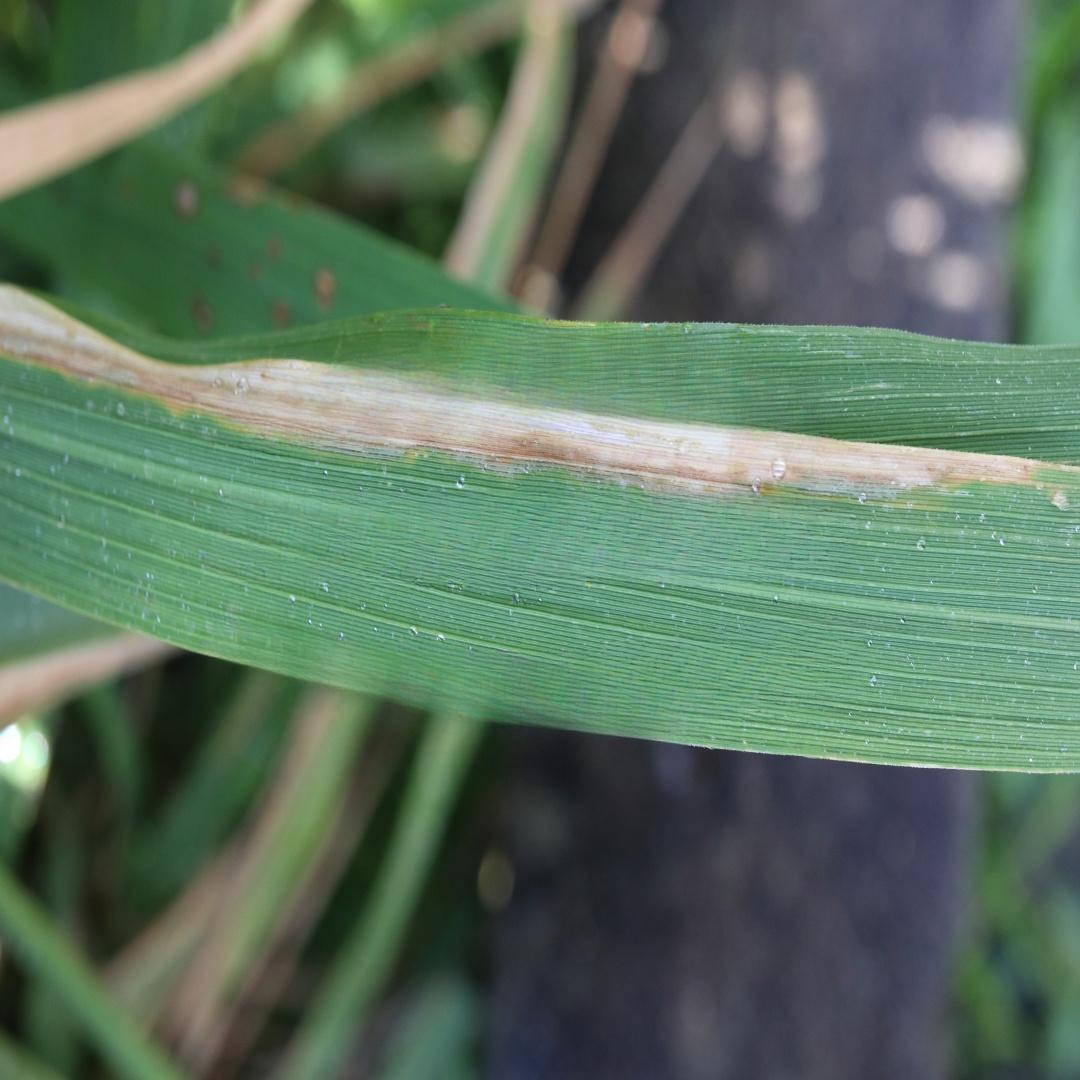BLB: (3, 285, 1049, 501)
LEAF: (0, 283, 1079, 772)
